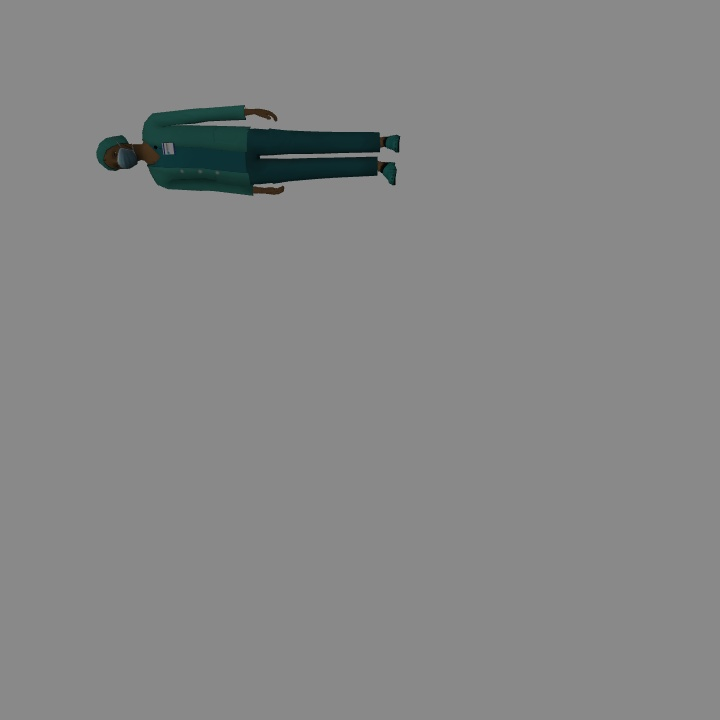victim: (98, 104, 400, 198)
